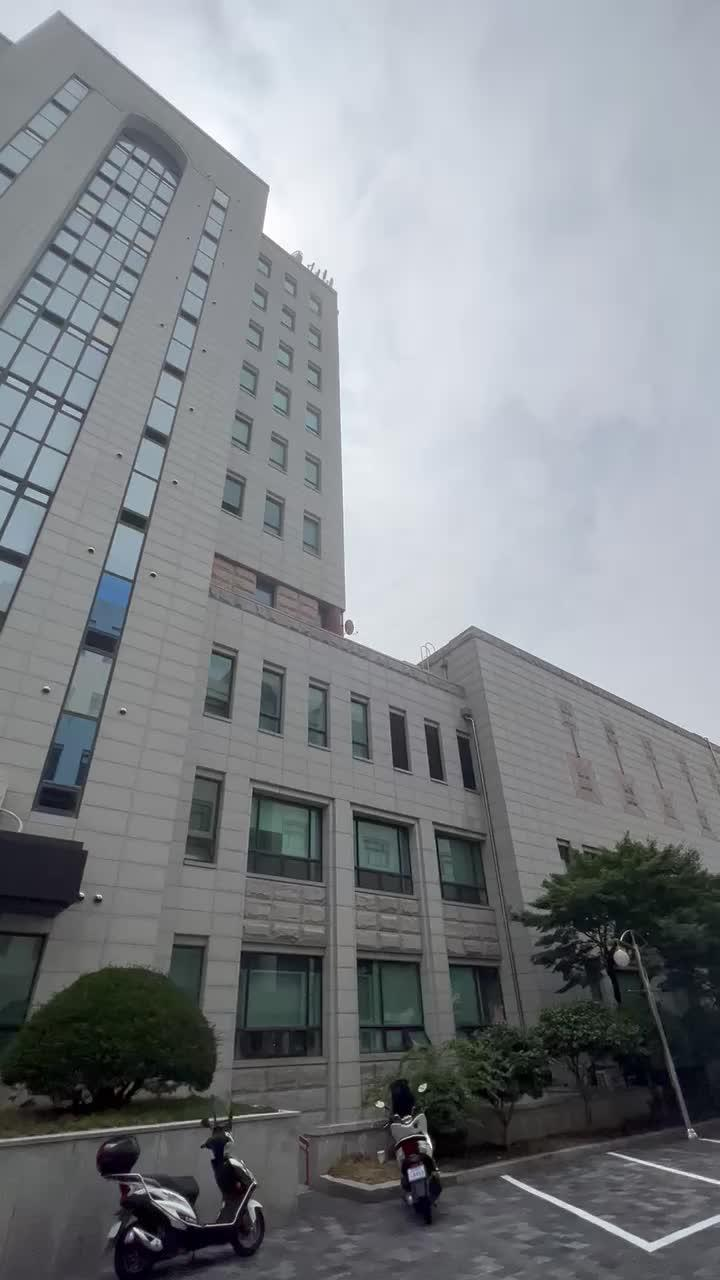building: (10, 44, 462, 964)
